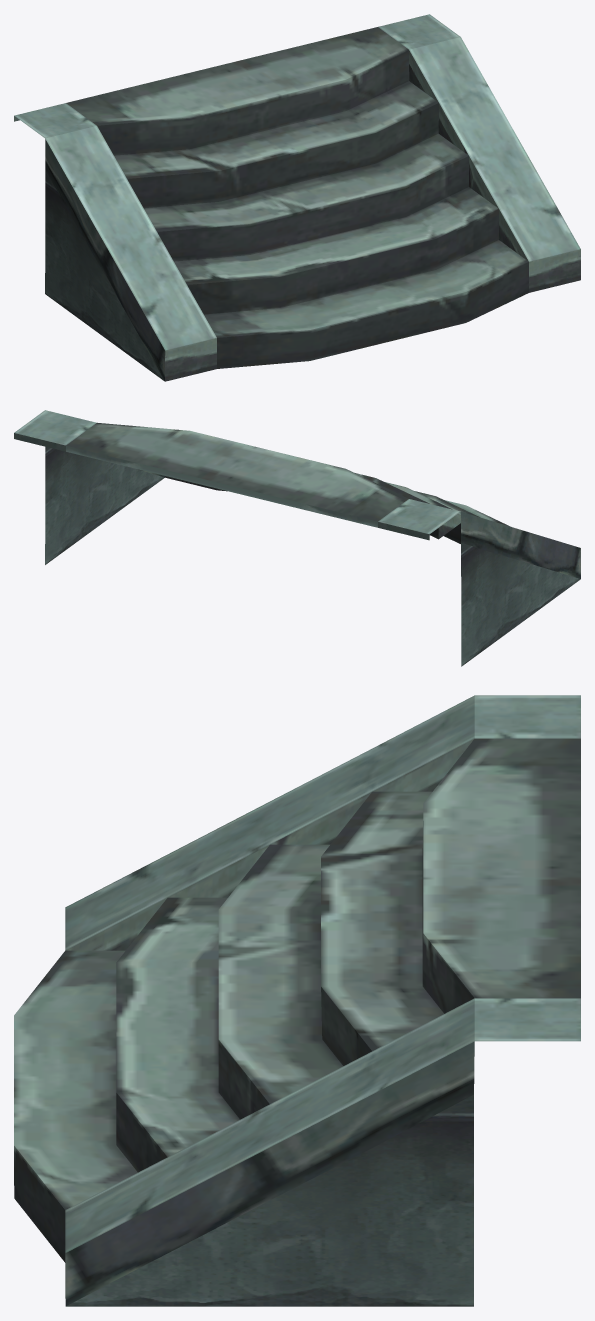
File: crypt_quarter_stairs_01.fbx
3 views of the same model, one above another, from view 1: azimuth 30°, elevation 25°; view 2: azimuth 150°, elevation 25°; view 3: azimuth 270°, elevation 25° (orthographic). The views are drawn at different scales.
Visible parts, largest first — view 1: crypt_quarter_stairs_01-0; view 2: crypt_quarter_stairs_01-0; view 3: crypt_quarter_stairs_01-0.
Boxes of the visible parts, bbox=[...] form: crypt_quarter_stairs_01-0: bbox=[14, 14, 580, 381]; crypt_quarter_stairs_01-0: bbox=[14, 410, 580, 666]; crypt_quarter_stairs_01-0: bbox=[14, 695, 580, 1306].
Bounding box in the file's own units: 4 × 1.43 × 2.77.
